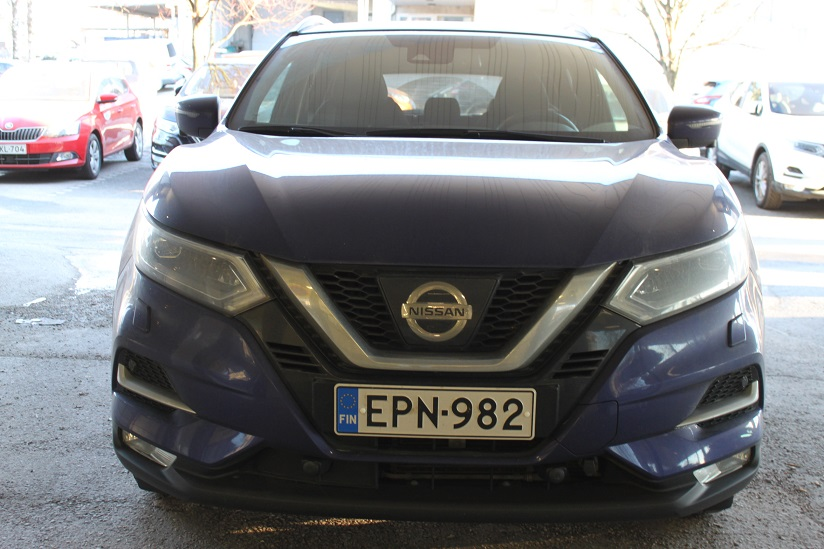license: (334, 378, 536, 442)
